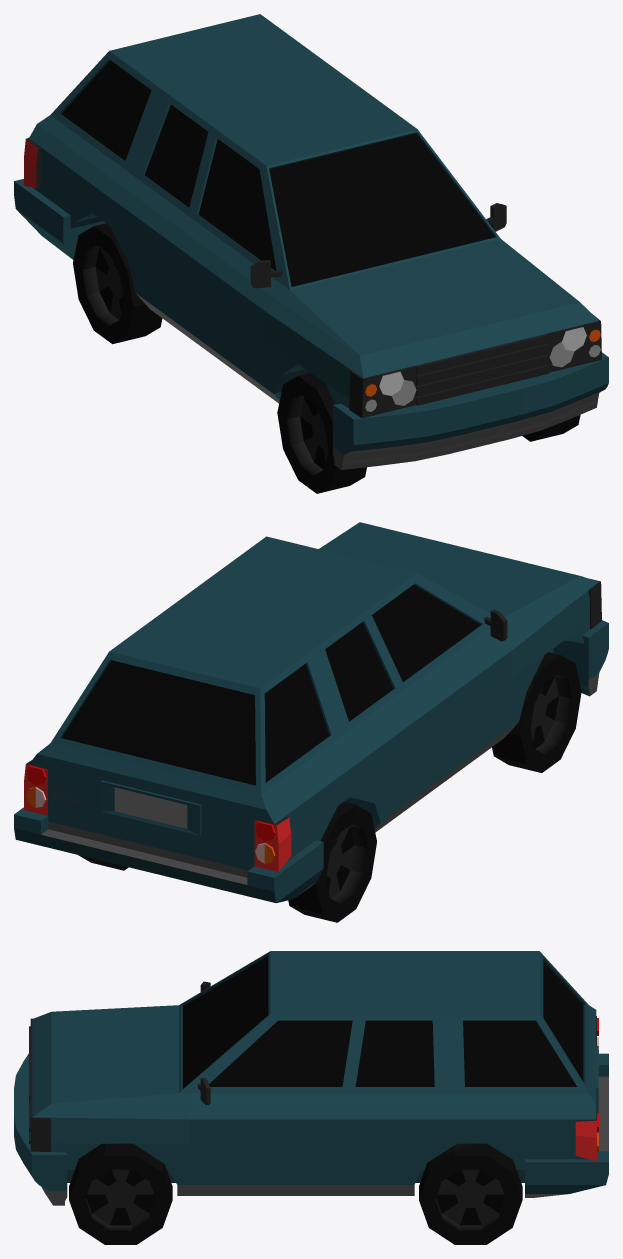
File: SM_suv01.FBX
The picture shows the model from 3 angles, top to bottom: view 1: azimuth 30°, elevation 25°; view 2: azimuth 150°, elevation 25°; view 3: azimuth 270°, elevation 25°; orthographic projection. The views are drawn at different scales.
Visible parts, largest first — view 1: RangeRover\; view 2: RangeRover\; view 3: RangeRover\.
Boxes of the visible parts, box(x1,y1,x2,y2) form: RangeRover\: box(14, 14, 608, 493); RangeRover\: box(14, 522, 608, 922); RangeRover\: box(14, 951, 608, 1244).
Bounding box in the file's own units: 199 × 179 × 459.
